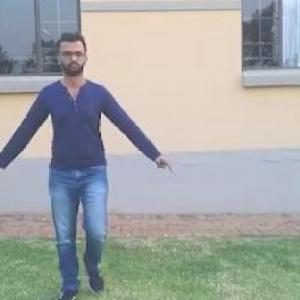land: (0, 37, 174, 299)
